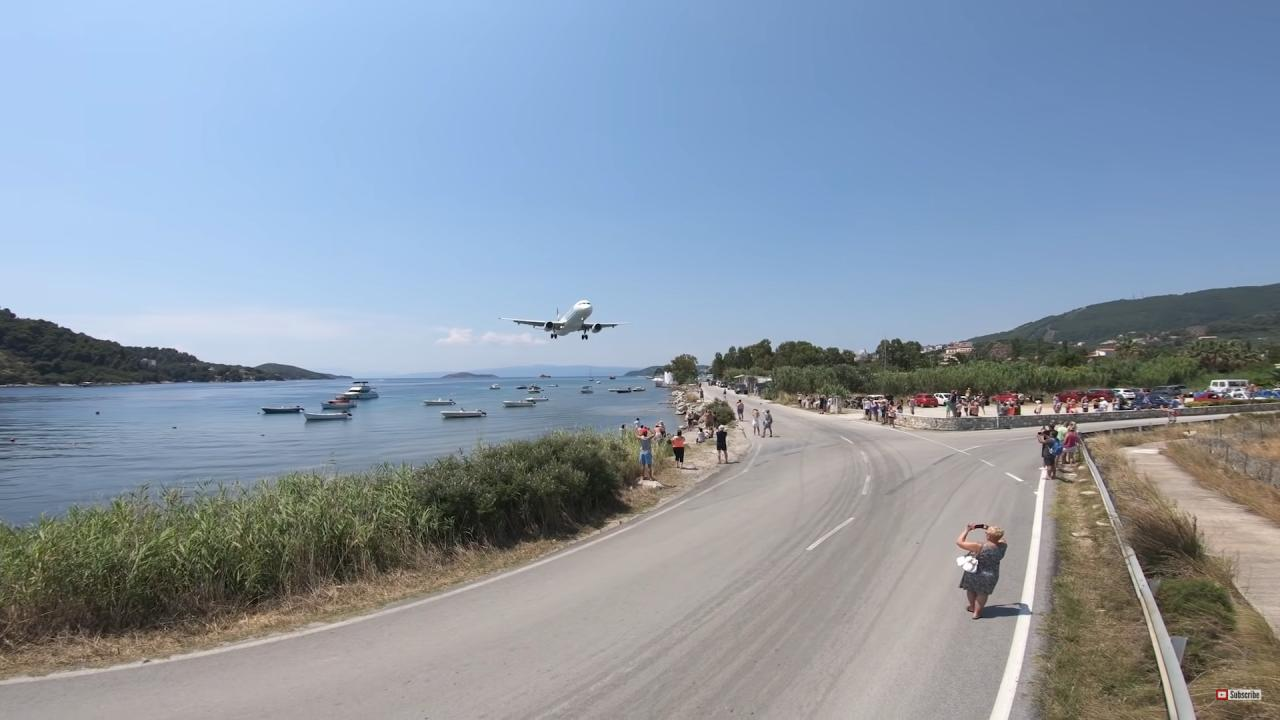Airplane: (490, 292, 633, 350)
